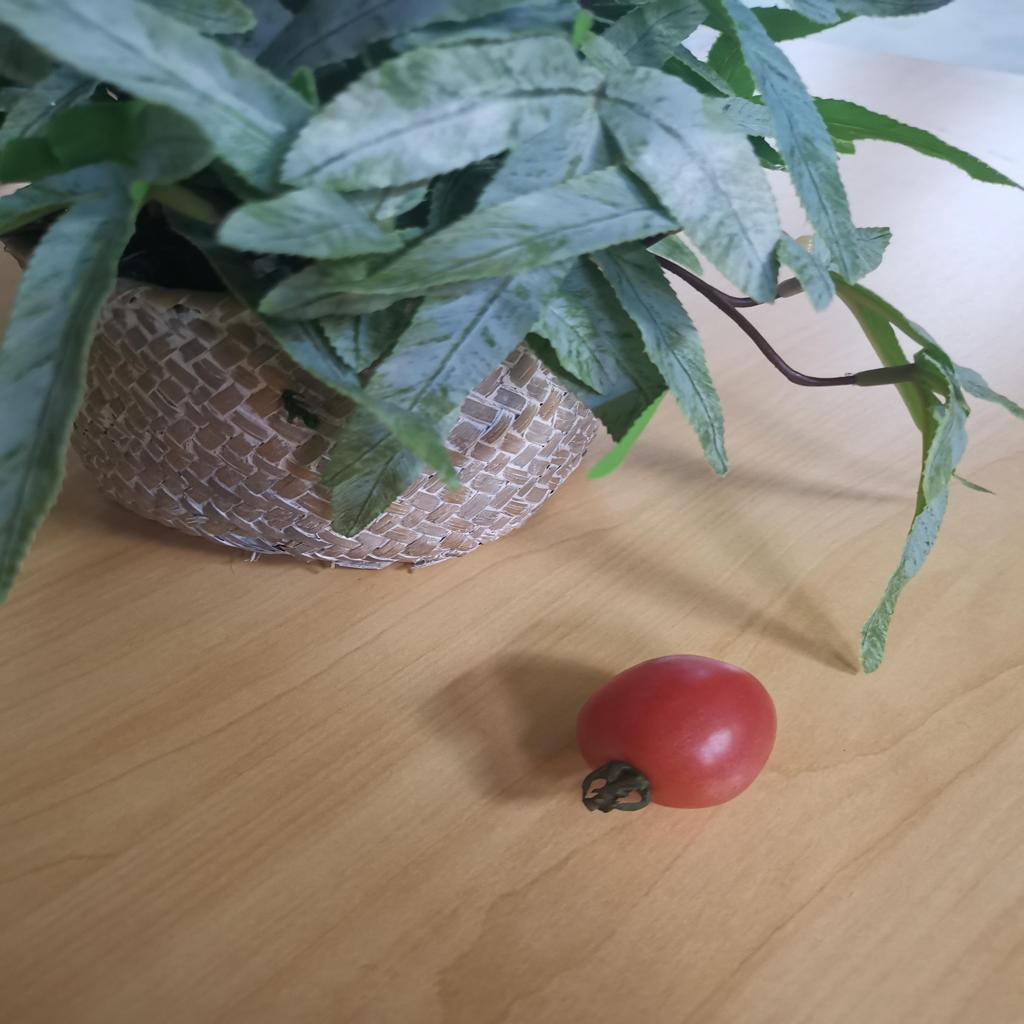tomato: (569, 649, 783, 822)
